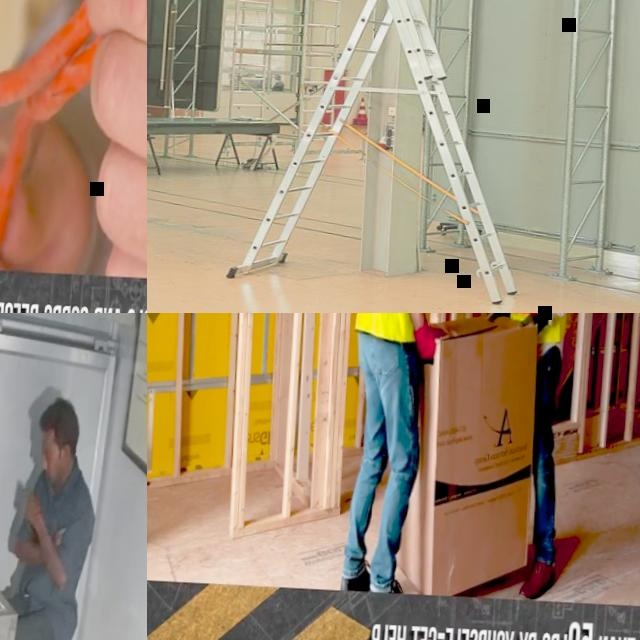NO-Hardhat: (39, 401, 80, 443)
NO-Mask: (46, 463, 64, 486)
NO-Safety Vest: (16, 475, 92, 605)
Person: (0, 0, 147, 294), (472, 313, 591, 598), (338, 313, 457, 593), (0, 398, 103, 640)
